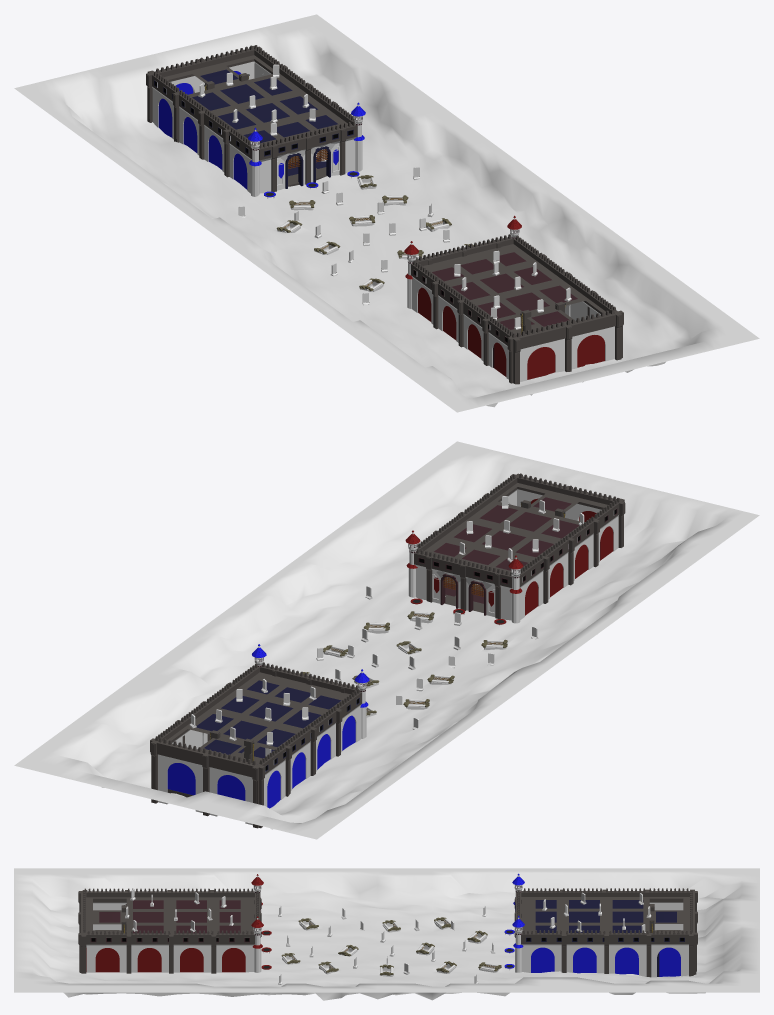
The model's file is Castles.fbx.
The picture shows the model from 3 angles, top to bottom: view 1: azimuth 30°, elevation 25°; view 2: azimuth 150°, elevation 25°; view 3: azimuth 270°, elevation 25°; orthographic projection. The views are drawn at different scales.
Parts seen in each view (by area): view 1: ground, blue castle, red castle, Cube; view 2: ground, blue castle, red castle, Cube; view 3: ground, blue castle, red castle, Cube.
Boxes of the visible parts, x1,y1,x2,y2 form: ground: (14,14,759,412); blue castle: (146,45,365,196); red castle: (404,215,623,384); Cube: (276,175,473,291); ground: (14,441,759,839); blue castle: (150,644,369,828); red castle: (405,473,625,623); Cube: (299,611,507,717); ground: (14,868,759,1000); blue castle: (512,873,697,977); red castle: (78,874,263,973); Cube: (281,917,501,976).
Size of the model in its own units: 12137 by 3124 by 30747.
